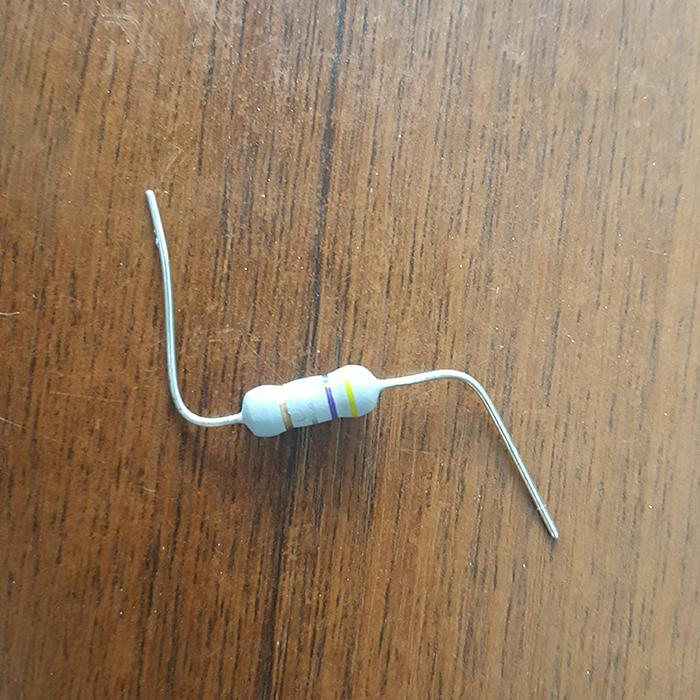resistor: (239, 362, 384, 437)
